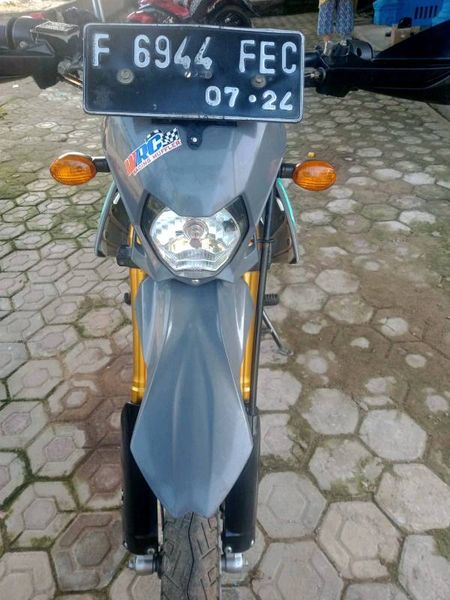plate: (87, 21, 304, 126)
